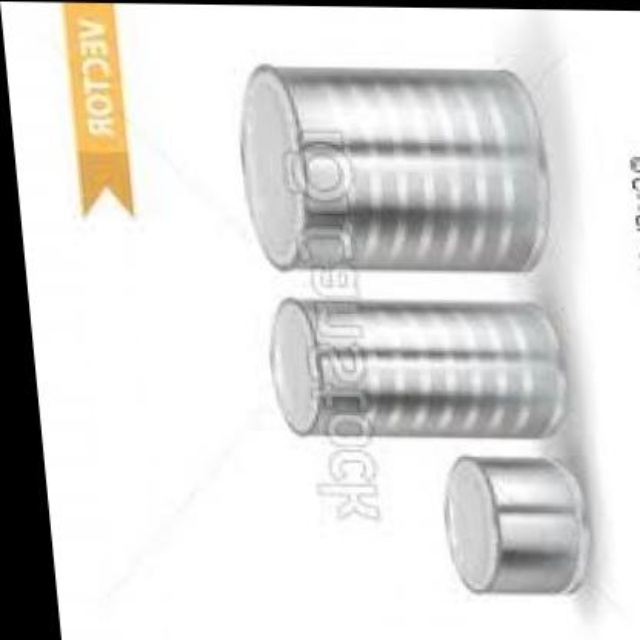trash: (242, 66, 546, 269), (271, 298, 565, 435), (445, 457, 586, 591)
